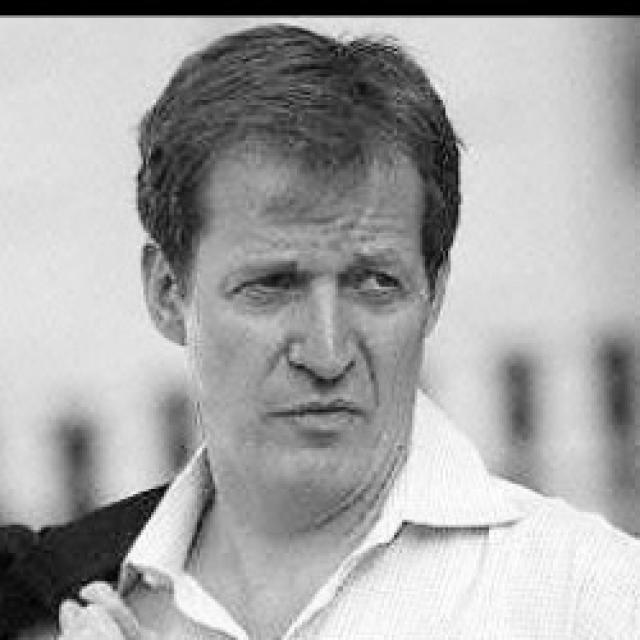real: (140, 116, 432, 520), (226, 247, 412, 315)
